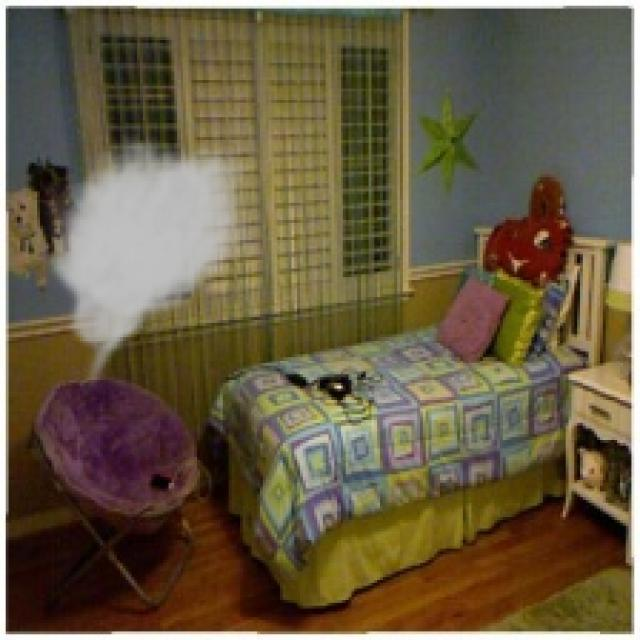smoke: (43, 134, 257, 397)
